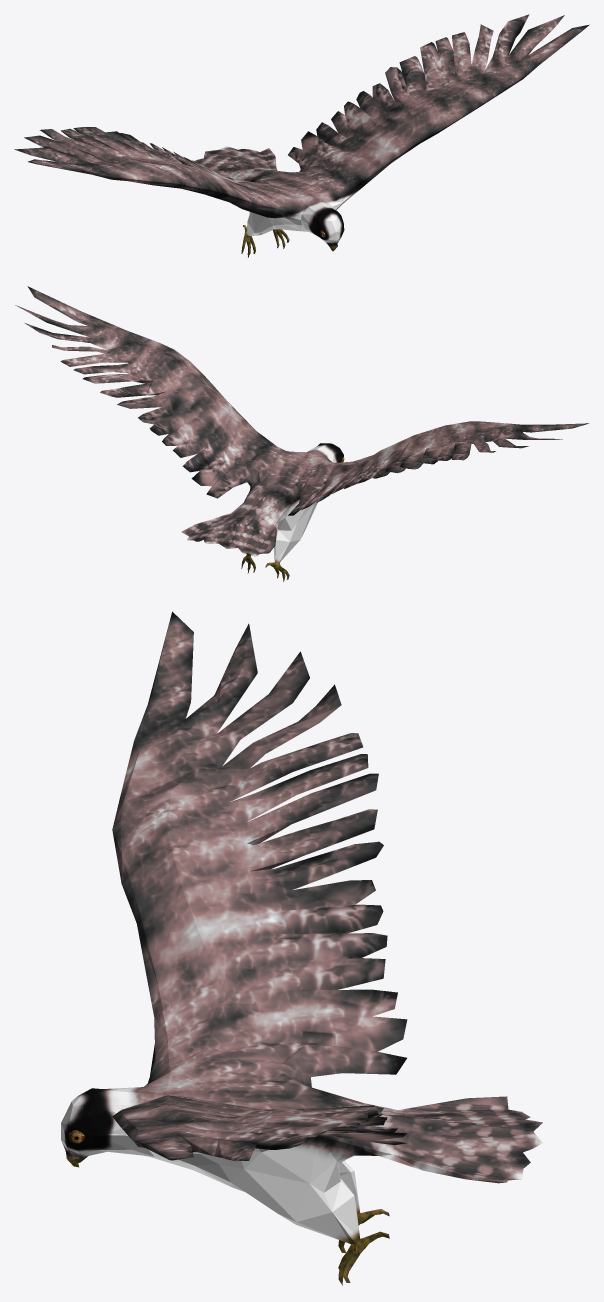
Rendered from alcon3.fbx.
3 renders of one model, top to bottom at view 1: azimuth 30°, elevation 25°; view 2: azimuth 150°, elevation 25°; view 3: azimuth 270°, elevation 25°, orthographic. The views are drawn at different scales.
Visible parts, largest first — view 1: flc2_body; view 2: flc2_body; view 3: flc2_body.
Boxes of the visible parts, x1,y1,x2,y2 form: flc2_body: (14,14,589,257); flc2_body: (15,286,588,581); flc2_body: (61,611,542,1285).
Bounding box in the file's own units: 0.7616 × 0.2484 × 0.2826.
